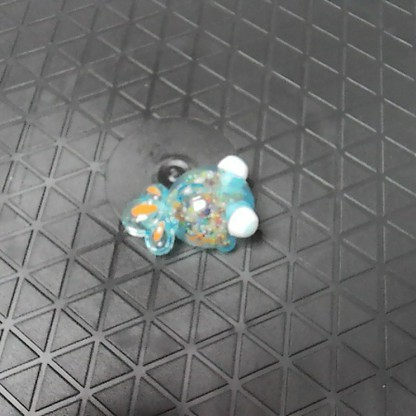bluefish: (118, 150, 259, 260)
